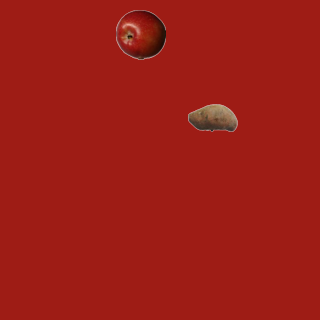Apple Braeburn: (115, 9, 165, 59)
Potato Sweet: (187, 92, 237, 142)
